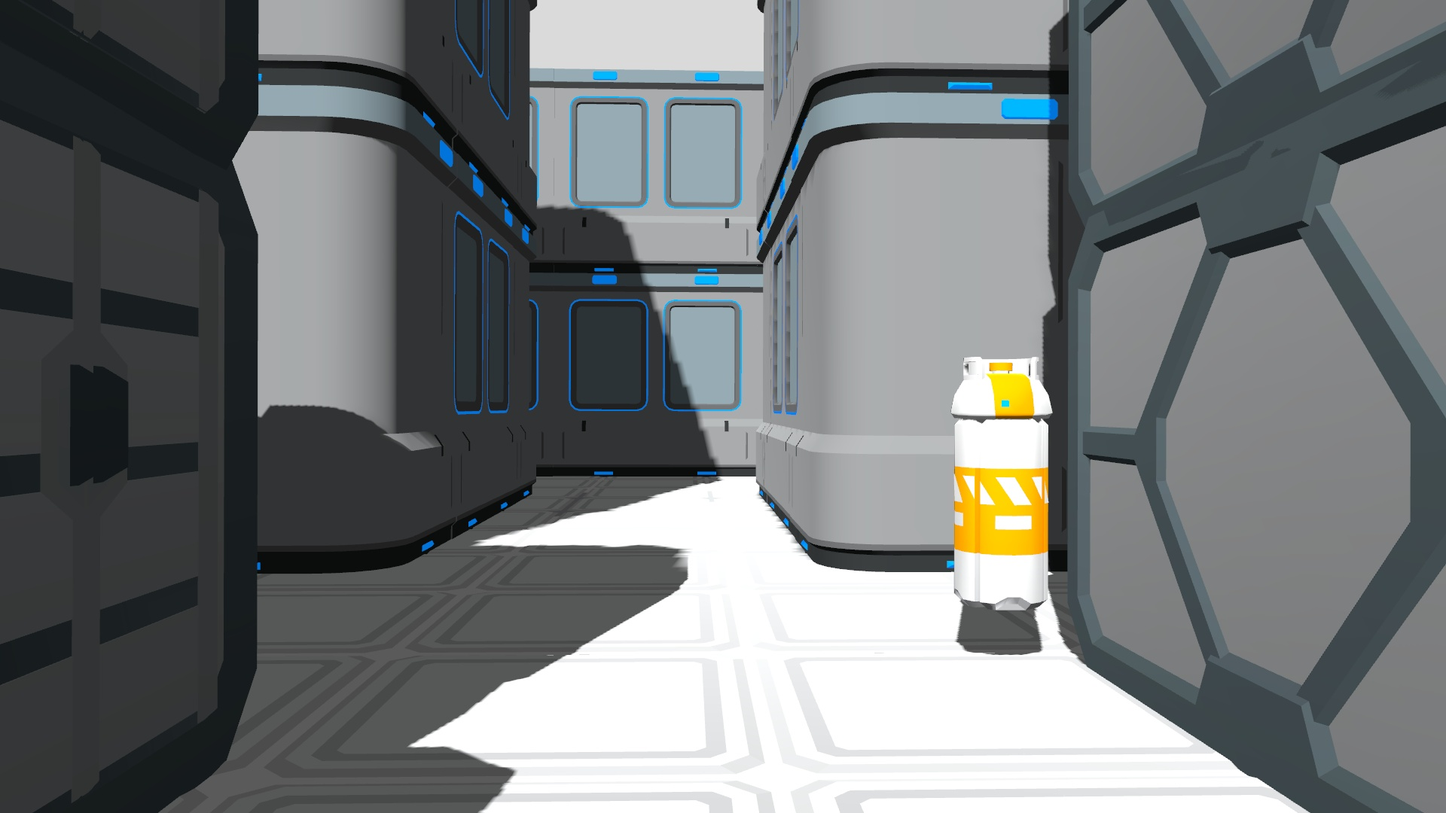yellow_barrel: (948, 347, 1058, 617)
